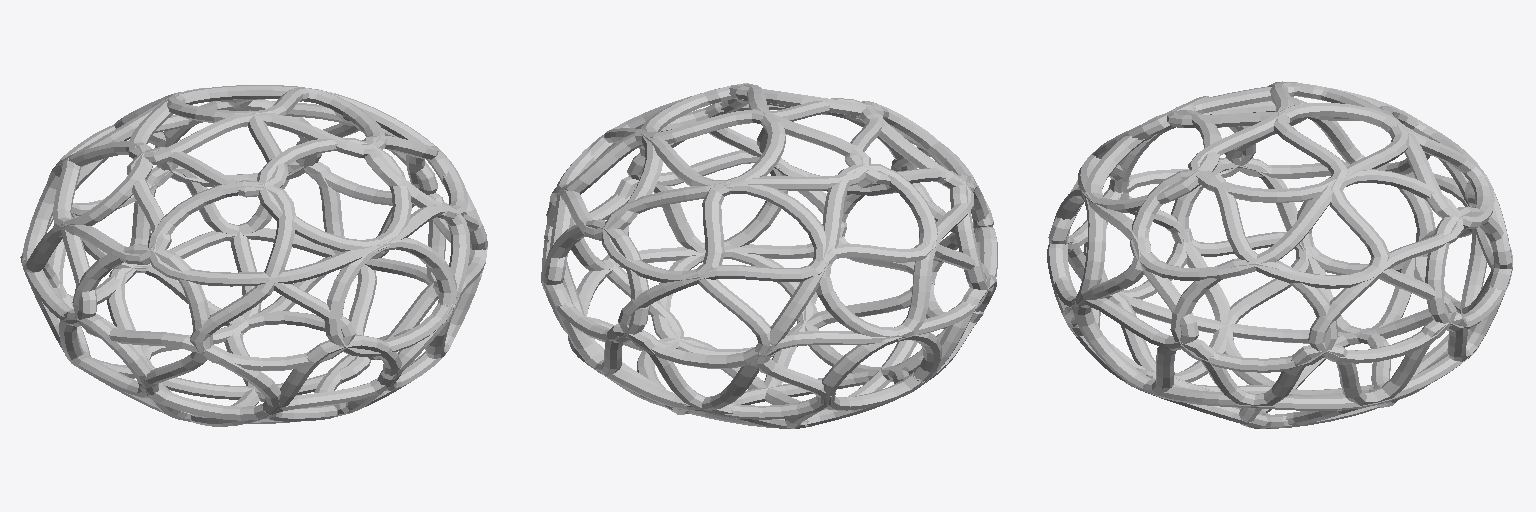
Rendered from ball.obj.
3 renders of one model, left to right at view 1: azimuth 30°, elevation 25°; view 2: azimuth 150°, elevation 25°; view 3: azimuth 270°, elevation 25°, orthographic.
Bounding box in the file's own units: 0.4085 × 0.2783 × 0.4108.